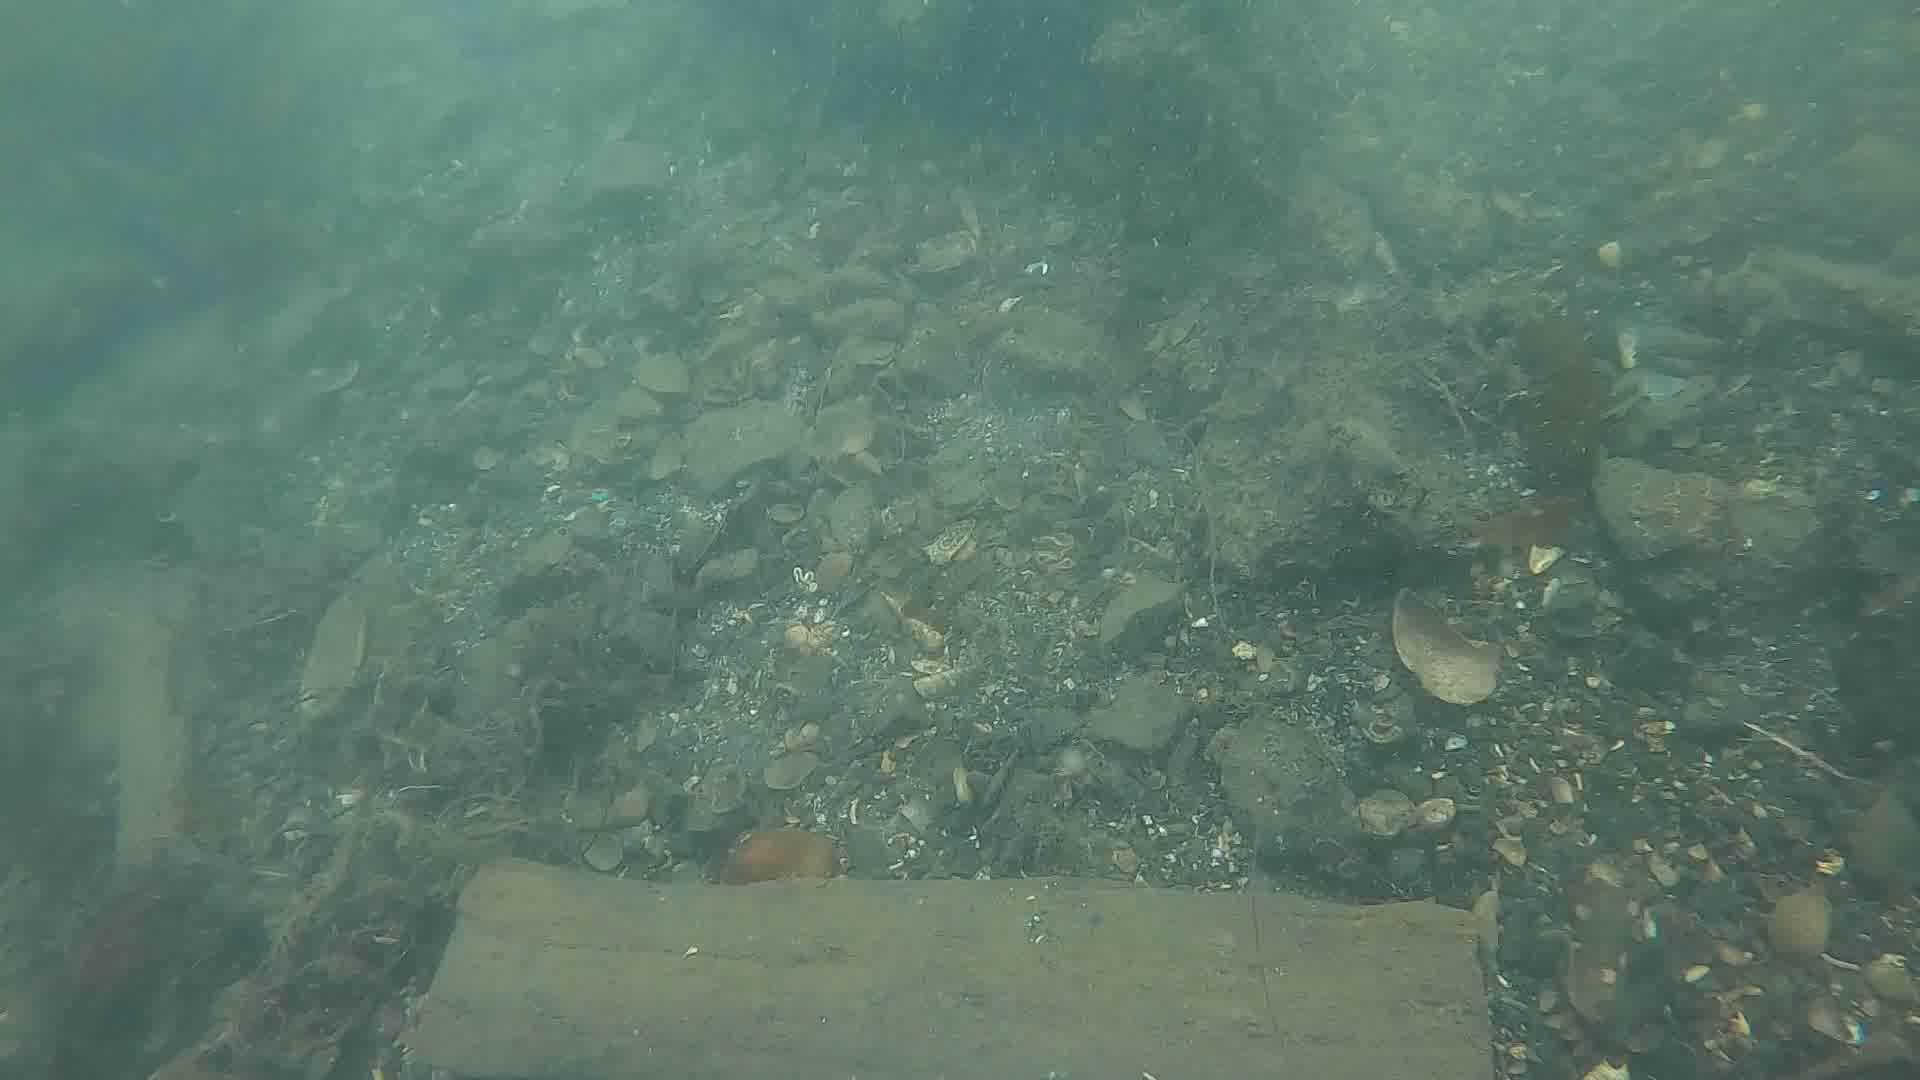wood: (407, 855, 1501, 1080)
